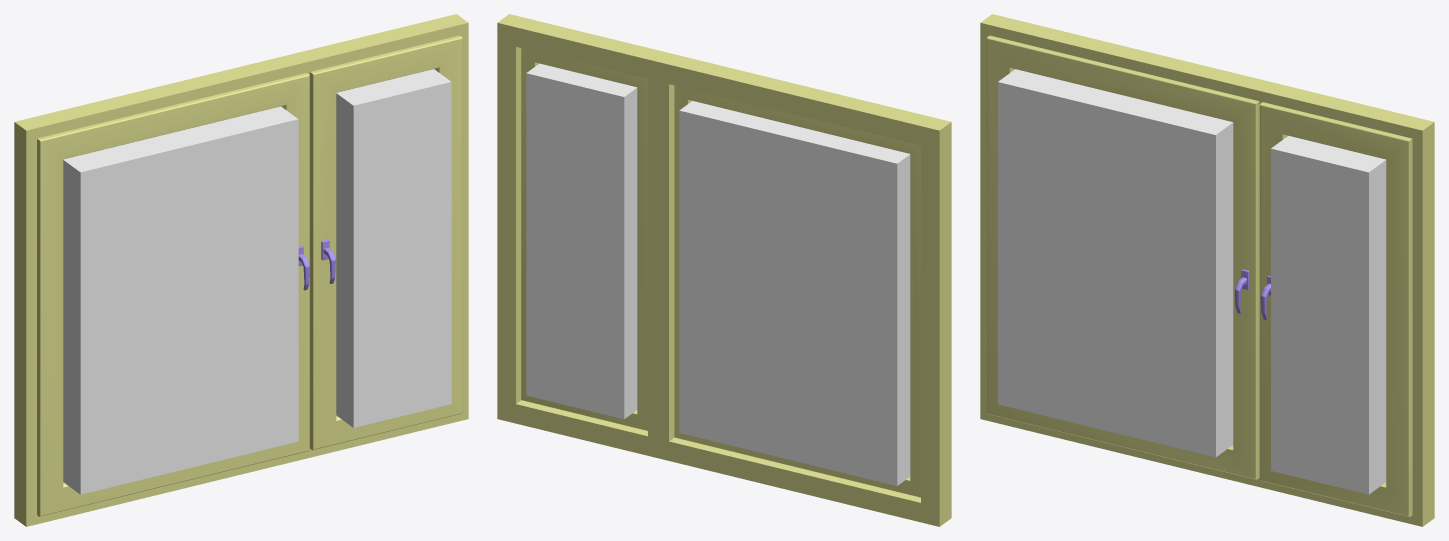
File: Window.FBX
The picture shows the model from 3 angles, left to right: view 1: azimuth 30°, elevation 25°; view 2: azimuth 150°, elevation 25°; view 3: azimuth 330°, elevation 25°; orthographic projection.
Parts seen in each view (by area): view 1: Box001, Box002, obj_06, obj_04, obj_01; view 2: Box001, obj_06, Box002, obj_04, obj_01; view 3: Box001, Box002, obj_06, obj_04, obj_01.
Boxes of the visible parts, x1,y1,x2,y2 form: Box001: (63, 106, 298, 494); Box002: (336, 69, 451, 427); obj_06: (14, 14, 468, 526); obj_04: (37, 72, 309, 516); obj_01: (309, 35, 462, 450); Box001: (679, 101, 910, 485); obj_06: (497, 14, 951, 526); Box002: (526, 63, 637, 419); obj_04: (674, 85, 920, 497); obj_01: (521, 48, 647, 430); Box001: (998, 69, 1233, 457); Box002: (1271, 135, 1386, 494); obj_06: (980, 14, 1434, 526); obj_04: (987, 35, 1259, 479); obj_01: (1260, 102, 1412, 516).
Bounding box in the file's own units: 148 × 126 × 21.29.
